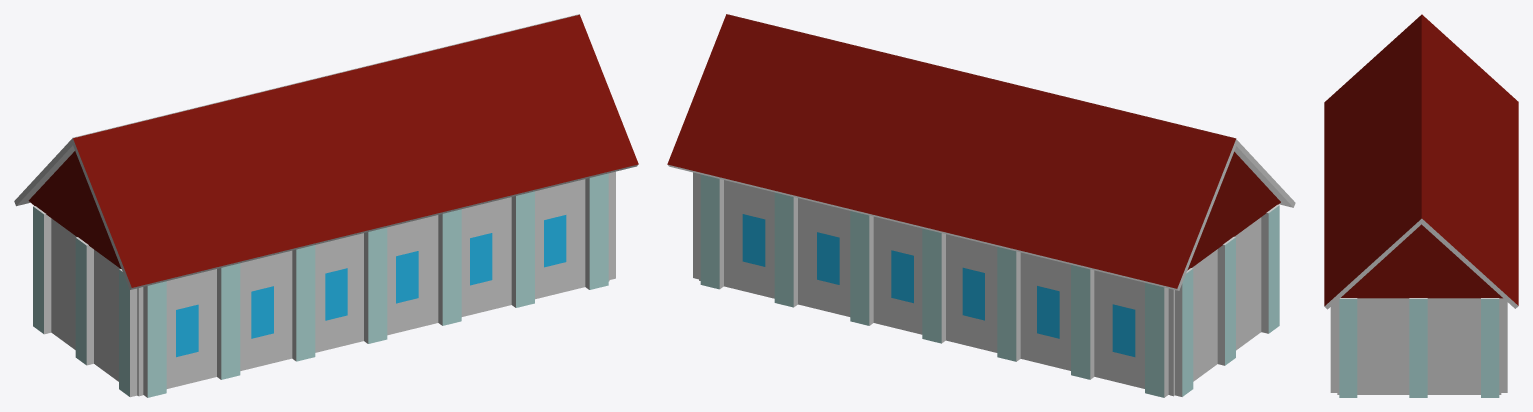
The model's file is house.fbx.
3 views of the same model, side by side, from view 1: azimuth 30°, elevation 25°; view 2: azimuth 150°, elevation 25°; view 3: azimuth 270°, elevation 25° (orthographic). The views are drawn at different scales.
Visible parts, largest first — view 1: Cube.000; view 2: Cube.000; view 3: Cube.000.
Boxes of the visible parts, x1,y1,x2,y2 form: Cube.000: [14, 14, 638, 397]; Cube.000: [667, 14, 1295, 397]; Cube.000: [1324, 14, 1518, 397].
Size of the model in its own units: 2269 by 961 by 913.
